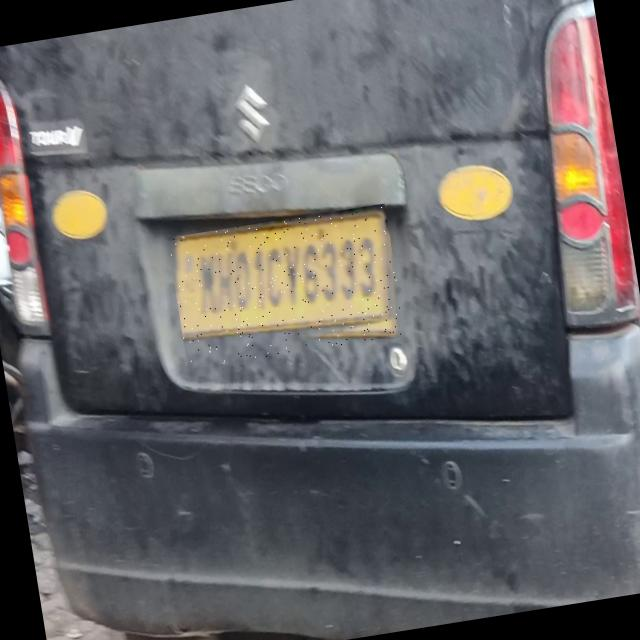Plate: (169, 205, 407, 371)
